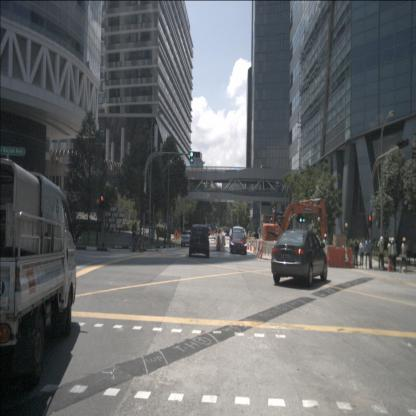human-pedestrian-adult: (365, 236, 372, 270), (132, 224, 139, 252), (353, 236, 359, 268), (359, 238, 365, 269), (134, 222, 140, 249), (406, 238, 411, 262), (168, 227, 171, 244), (164, 225, 166, 243)
vehicle-bicycle: (130, 222, 144, 254)
vehicle-car: (271, 229, 328, 288), (189, 224, 210, 258), (230, 230, 247, 255), (232, 226, 245, 249), (181, 230, 193, 247), (225, 228, 230, 236)
vehicle-truck: (0, 157, 77, 390)
